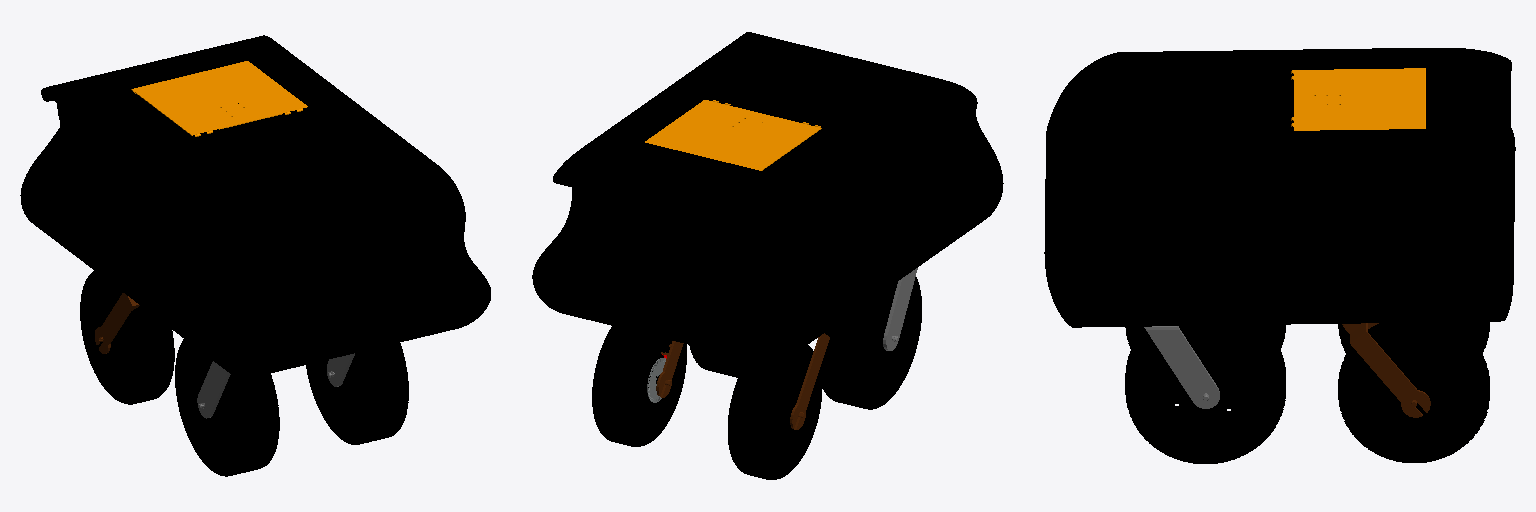
The robot description file, URDF, robot "Car assembly":
<?xml version="1.0" encoding="utf-8"?>
<!-- This URDF was automatically created by SolidWorks to URDF Exporter! Originally created by Stephen Brawner (brawner@gmail.com) 
     Commit Version: 1.6.0-4-g7f85cfe  Build Version: 1.6.7995.38578
     For more information, please see http://wiki.ros.org/sw_urdf_exporter -->
<robot
  name="Car assembly">
  <link
    name="base_link">
    <inertial>
      <origin
        xyz="0.00062631 0.31309 -0.25258"
        rpy="0 0 0" />
      <mass
        value="33.846" />
      <inertia
        ixx="0.27315"
        ixy="-0.0016883"
        ixz="-2.0306E-05"
        iyy="0.28226"
        iyz="-0.0046629"
        izz="0.41234" />
    </inertial>
    <visual>
      <origin
        xyz="0 0 0"
        rpy="0 0 0" />
      <geometry>
        <mesh
          filename="meshes/base_link.STL" />
      </geometry>
      <material
        name="">
        <color
          rgba="0 0 0 1" />
      </material>
    </visual>
    <collision>
      <origin
        xyz="0 0 0"
        rpy="0 0 0" />
      <geometry>
        <mesh
          filename="meshes/base_link.STL" />
      </geometry>
    </collision>
  </link>
  <link
    name="right_Knuckle">
    <inertial>
      <origin
        xyz="-0.11963 -6.1676E-05 0.14233"
        rpy="0 0 0" />
      <mass
        value="3.805" />
      <inertia
        ixx="0.038868"
        ixy="3.9127E-06"
        ixz="0.021219"
        iyy="0.04605"
        iyz="-5.3928E-06"
        izz="0.026557" />
    </inertial>
    <visual>
      <origin
        xyz="0 0 0"
        rpy="0 0 0" />
      <geometry>
        <mesh
          filename="meshes/right_Knuckle.STL" />
      </geometry>
      <material
        name="">
        <color
          rgba="0.36 0.18 0.05 1" />
      </material>
    </visual>
    <collision>
      <origin
        xyz="0 0 0"
        rpy="0 0 0" />
      <geometry>
        <mesh
          filename="meshes/right_Knuckle.STL" />
      </geometry>
    </collision>
  </link>
  <joint
    name="right_Knuckle_joint"
    type="continuous">
    <origin
      xyz="-0.199999999999968 0.471319481101379 -0.372577159553223"
      rpy="3.14159265358979 0 -1.5707963267949" />
    <parent
      link="base_link" />
    <child
      link="right_Knuckle" />
    <axis
      xyz="0 -1 0" />
  </joint>
  <link
    name="right_wheel">
    <inertial>
      <origin
        xyz="-2.9254E-08 -0.00065273 2.1302E-07"
        rpy="0 0 0" />
      <mass
        value="16.633" />
      <inertia
        ixx="0.082756"
        ixy="-1.7814E-08"
        ixz="8.7481E-09"
        iyy="0.148"
        iyz="1.7679E-07"
        izz="0.082756" />
    </inertial>
    <visual>
      <origin
        xyz="0 0 0"
        rpy="0 0 0" />
      <geometry>
        <mesh
          filename="meshes/right_wheel.STL" />
      </geometry>
      <material
        name="">
        <color
          rgba="0 0 0 1" />
      </material>
    </visual>
    <collision>
      <origin
        xyz="0 0 0"
        rpy="0 0 0" />
      <geometry>
        <mesh
          filename="meshes/right_wheel.STL" />
      </geometry>
    </collision>
  </link>
  <joint
    name="right_wheel_joint"
    type="continuous">
    <origin
      xyz="-0.234395683941828 0.00250018385050004 0.29337333442125"
      rpy="0 0 0" />
    <parent
      link="right_Knuckle" />
    <child
      link="right_wheel" />
    <axis
      xyz="0 1 0" />
  </joint>
  <link
    name="right_disk">
    <inertial>
      <origin
        xyz="4.4409E-16 3.7317E-14 -1.9984E-15"
        rpy="0 0 0" />
      <mass
        value="0.072665" />
      <inertia
        ixx="6.5244E-05"
        ixy="-5.1038E-21"
        ixz="-8.5943E-21"
        iyy="0.00013048"
        iyz="-3.0297E-20"
        izz="6.5244E-05" />
    </inertial>
    <visual>
      <origin
        xyz="0 0 0"
        rpy="0 0 0" />
      <geometry>
        <mesh
          filename="meshes/right_disk.STL" />
      </geometry>
      <material
        name="">
        <color
          rgba="0.52941 0.54902 0.54902 1" />
      </material>
    </visual>
    <collision>
      <origin
        xyz="0 0 0"
        rpy="0 0 0" />
      <geometry>
        <mesh
          filename="meshes/right_disk.STL" />
      </geometry>
    </collision>
  </link>
  <joint
    name="right_disk_joint"
    type="fixed">
    <origin
      xyz="0 -0.0581328274135423 0"
      rpy="0 0 0" />
    <parent
      link="right_wheel" />
    <child
      link="right_disk" />
    <axis
      xyz="0 0 0" />
  </joint>
  <link
    name="right_encoder">
    <inertial>
      <origin
        xyz="0.0033456 -0.007696 0.00505"
        rpy="0 0 0" />
      <mass
        value="0.0018182" />
      <inertia
        ixx="1.6328E-07"
        ixy="-1.3711E-08"
        ixz="1.5168E-15"
        iyy="1.0427E-07"
        iyz="2.0502E-15"
        izz="1.2878E-07" />
    </inertial>
    <visual>
      <origin
        xyz="0 0 0"
        rpy="0 0 0" />
      <geometry>
        <mesh
          filename="meshes/right_encoder.STL" />
      </geometry>
      <material
        name="">
        <color
          rgba="1 0 0 1" />
      </material>
    </visual>
    <collision>
      <origin
        xyz="0 0 0"
        rpy="0 0 0" />
      <geometry>
        <mesh
          filename="meshes/right_encoder.STL" />
      </geometry>
    </collision>
  </link>
  <joint
    name="right_encoder"
    type="fixed">
    <origin
      xyz="-0.207097260733896 -0.0607650000000001 0.243793104335452"
      rpy="1.5707963267949 1.5707963267949 0" />
    <parent
      link="right_Knuckle" />
    <child
      link="right_encoder" />
    <axis
      xyz="0 0 0" />
  </joint>
  <link
    name="right_low_suspension">
    <inertial>
      <origin
        xyz="0.00033582 9.4025E-08 -0.021194"
        rpy="0 0 0" />
      <mass
        value="0.16486" />
      <inertia
        ixx="0.00010548"
        ixy="3.5543E-12"
        ixz="1.4135E-06"
        iyy="0.00010569"
        iyz="-2.6801E-10"
        izz="1.6291E-05" />
    </inertial>
    <visual>
      <origin
        xyz="0 0 0"
        rpy="0 0 0" />
      <geometry>
        <mesh
          filename="meshes/right_low_suspension.STL" />
      </geometry>
      <material
        name="">
        <color
          rgba="0.77647 0.75686 0.73725 1" />
      </material>
    </visual>
    <collision>
      <origin
        xyz="0 0 0"
        rpy="0 0 0" />
      <geometry>
        <mesh
          filename="meshes/right_low_suspension.STL" />
      </geometry>
    </collision>
  </link>
  <joint
    name="right_low_suspension_joint"
    type="continuous">
    <origin
      xyz="-0.128131802251497 0 0.0805394382397928"
      rpy="0 0 0" />
    <parent
      link="right_Knuckle" />
    <child
      link="right_low_suspension" />
    <axis
      xyz="0 -1 0" />
  </joint>
  <link
    name="left_knuckle">
    <inertial>
      <origin
        xyz="-0.11963 6.1684E-05 0.14233"
        rpy="0 0 0" />
      <mass
        value="3.805" />
      <inertia
        ixx="0.038868"
        ixy="-4.0185E-06"
        ixz="0.021219"
        iyy="0.04605"
        iyz="5.3105E-06"
        izz="0.026557" />
    </inertial>
    <visual>
      <origin
        xyz="0 0 0"
        rpy="0 0 0" />
      <geometry>
        <mesh
          filename="meshes/left_knuckle.STL" />
      </geometry>
      <material
        name="">
        <color
          rgba="0.36 0.18 0.05 1" />
      </material>
    </visual>
    <collision>
      <origin
        xyz="0 0 0"
        rpy="0 0 0" />
      <geometry>
        <mesh
          filename="meshes/left_knuckle.STL" />
      </geometry>
    </collision>
  </link>
  <joint
    name="left_knuckle_joint"
    type="continuous">
    <origin
      xyz="0.200000000000031 0.471319481101379 -0.372577159553224"
      rpy="3.14159265358979 0 -1.5707963267949" />
    <parent
      link="base_link" />
    <child
      link="left_knuckle" />
    <axis
      xyz="0 -1 0" />
  </joint>
  <link
    name="left_wheel">
    <inertial>
      <origin
        xyz="-4.015E-08 0.00065274 2.4461E-07"
        rpy="0 0 0" />
      <mass
        value="16.633" />
      <inertia
        ixx="0.082756"
        ixy="3.5814E-08"
        ixz="1.719E-08"
        iyy="0.148"
        iyz="-2.0763E-07"
        izz="0.082756" />
    </inertial>
    <visual>
      <origin
        xyz="0 0 0"
        rpy="0 0 0" />
      <geometry>
        <mesh
          filename="meshes/left_wheel.STL" />
      </geometry>
      <material
        name="">
        <color
          rgba="0 0 0 1" />
      </material>
    </visual>
    <collision>
      <origin
        xyz="0 0 0"
        rpy="0 0 0" />
      <geometry>
        <mesh
          filename="meshes/left_wheel.STL" />
      </geometry>
    </collision>
  </link>
  <joint
    name="left_wheel_joint"
    type="continuous">
    <origin
      xyz="-0.234395683930872 -0.00250018383990397 0.293373334432206"
      rpy="0 0 0" />
    <parent
      link="left_knuckle" />
    <child
      link="left_wheel" />
    <axis
      xyz="0 1 0" />
  </joint>
  <link
    name="left_disk">
    <inertial>
      <origin
        xyz="-6.2172E-15 4.1855E-14 -3.5527E-15"
        rpy="0 0 0" />
      <mass
        value="0.072665" />
      <inertia
        ixx="6.5244E-05"
        ixy="-5.2904E-21"
        ixz="-3.5574E-20"
        iyy="0.00013048"
        iyz="1.9946E-19"
        izz="6.5244E-05" />
    </inertial>
    <visual>
      <origin
        xyz="0 0 0"
        rpy="0 0 0" />
      <geometry>
        <mesh
          filename="meshes/left_disk.STL" />
      </geometry>
      <material
        name="">
        <color
          rgba="0.52941 0.54902 0.54902 1" />
      </material>
    </visual>
    <collision>
      <origin
        xyz="0 0 0"
        rpy="0 0 0" />
      <geometry>
        <mesh
          filename="meshes/left_disk.STL" />
      </geometry>
    </collision>
  </link>
  <joint
    name="left_disk_joint"
    type="fixed">
    <origin
      xyz="0 0.0581328274029457 0"
      rpy="0 0 0" />
    <parent
      link="left_wheel" />
    <child
      link="left_disk" />
    <axis
      xyz="0 0 0" />
  </joint>
  <link
    name="left_encoder">
    <inertial>
      <origin
        xyz="0.0082686 0.0014323 0.00505"
        rpy="0 0 0" />
      <mass
        value="0.0018182" />
      <inertia
        ixx="1.1386E-07"
        ixy="2.5729E-08"
        ixz="-1.8683E-15"
        iyy="1.5369E-07"
        iyz="1.9843E-15"
        izz="1.2878E-07" />
    </inertial>
    <visual>
      <origin
        xyz="0 0 0"
        rpy="0 0 0" />
      <geometry>
        <mesh
          filename="meshes/left_encoder.STL" />
      </geometry>
      <material
        name="">
        <color
          rgba="1 0 0 1" />
      </material>
    </visual>
    <collision>
      <origin
        xyz="0 0 0"
        rpy="0 0 0" />
      <geometry>
        <mesh
          filename="meshes/left_encoder.STL" />
      </geometry>
    </collision>
  </link>
  <joint
    name="left_encoder_joint"
    type="fixed">
    <origin
      xyz="-0.192670048049405 0.0607649999999989 0.255132329800909"
      rpy="1.5707963267949 1.5707963267949 0" />
    <parent
      link="left_knuckle" />
    <child
      link="left_encoder" />
    <axis
      xyz="0 0 0" />
  </joint>
  <link
    name="left_low_suspension">
    <inertial>
      <origin
        xyz="0.00033582 9.4025E-08 -0.021194"
        rpy="0 0 0" />
      <mass
        value="0.16486" />
      <inertia
        ixx="0.00010548"
        ixy="3.5543E-12"
        ixz="1.4135E-06"
        iyy="0.00010569"
        iyz="-2.6801E-10"
        izz="1.6291E-05" />
    </inertial>
    <visual>
      <origin
        xyz="0 0 0"
        rpy="0 0 0" />
      <geometry>
        <mesh
          filename="meshes/left_low_suspension.STL" />
      </geometry>
      <material
        name="">
        <color
          rgba="0.77647 0.75686 0.73725 1" />
      </material>
    </visual>
    <collision>
      <origin
        xyz="0 0 0"
        rpy="0 0 0" />
      <geometry>
        <mesh
          filename="meshes/left_low_suspension.STL" />
      </geometry>
    </collision>
  </link>
  <joint
    name="left_low_suspension_joint"
    type="continuous">
    <origin
      xyz="-0.128131802251497 0 0.0805394382397931"
      rpy="0 0 0" />
    <parent
      link="left_knuckle" />
    <child
      link="left_low_suspension" />
    <axis
      xyz="0 -1 0" />
  </joint>
  <link
    name="right_high_suspension">
    <inertial>
      <origin
        xyz="-0.00067655 7.1805E-05 0.046412"
        rpy="0 0 0" />
      <mass
        value="0.5159" />
      <inertia
        ixx="0.00030587"
        ixy="1.8263E-07"
        ixz="-1.1466E-07"
        iyy="0.00030586"
        iyz="2.9465E-06"
        izz="9.6782E-05" />
    </inertial>
    <visual>
      <origin
        xyz="0 0 0"
        rpy="0 0 0" />
      <geometry>
        <mesh
          filename="meshes/right_high_suspension.STL" />
      </geometry>
      <material
        name="">
        <color
          rgba="0.77647 0.75686 0.73725 1" />
      </material>
    </visual>
    <collision>
      <origin
        xyz="0 0 0"
        rpy="0 0 0" />
      <geometry>
        <mesh
          filename="meshes/right_high_suspension.STL" />
      </geometry>
    </collision>
  </link>
  <joint
    name="right_high_suspension_joint"
    type="continuous">
    <origin
      xyz="-0.199999999999969 0.597470947158883 -0.328132285703223"
      rpy="3.14159265358979 0 -1.5707963267949" />
    <parent
      link="base_link" />
    <child
      link="right_high_suspension" />
    <axis
      xyz="0 -1 0" />
  </joint>
  <link
    name="left_high_suspension">
    <inertial>
      <origin
        xyz="-0.00067655 7.1805E-05 0.046412"
        rpy="0 0 0" />
      <mass
        value="0.5159" />
      <inertia
        ixx="0.00030587"
        ixy="1.8263E-07"
        ixz="-1.1466E-07"
        iyy="0.00030586"
        iyz="2.9465E-06"
        izz="9.6782E-05" />
    </inertial>
    <visual>
      <origin
        xyz="0 0 0"
        rpy="0 0 0" />
      <geometry>
        <mesh
          filename="meshes/left_high_suspension.STL" />
      </geometry>
      <material
        name="">
        <color
          rgba="0.77647 0.75686 0.73725 1" />
      </material>
    </visual>
    <collision>
      <origin
        xyz="0 0 0"
        rpy="0 0 0" />
      <geometry>
        <mesh
          filename="meshes/left_high_suspension.STL" />
      </geometry>
    </collision>
  </link>
  <joint
    name="left_high_suspension_joint"
    type="continuous">
    <origin
      xyz="0.20000000000003 0.597470947158883 -0.328132285703224"
      rpy="3.14159265358979 0 -1.5707963267949" />
    <parent
      link="base_link" />
    <child
      link="left_high_suspension" />
    <axis
      xyz="0 -1 0" />
  </joint>
  <link
    name="right_caster">
    <inertial>
      <origin
        xyz="4.5439E-07 -0.062682 -0.030057"
        rpy="0 0 0" />
      <mass
        value="6.0737" />
      <inertia
        ixx="0.050416"
        ixy="-4.132E-08"
        ixz="-2.9361E-08"
        iyy="0.028183"
        iyz="-0.018711"
        izz="0.050879" />
    </inertial>
    <visual>
      <origin
        xyz="0 0 0"
        rpy="0 0 0" />
      <geometry>
        <mesh
          filename="meshes/right_caster.STL" />
      </geometry>
      <material
        name="">
        <color
          rgba="0.5 0.5 0.5 1" />
      </material>
    </visual>
    <collision>
      <origin
        xyz="0 0 0"
        rpy="0 0 0" />
      <geometry>
        <mesh
          filename="meshes/right_caster.STL" />
      </geometry>
    </collision>
  </link>
  <joint
    name="right_caster_joint"
    type="continuous">
    <origin
      xyz="-0.193999999999983 0.0787262973425801 -0.432906688526437"
      rpy="1.5866453347782 0 0" />
    <parent
      link="base_link" />
    <child
      link="right_caster" />
    <axis
      xyz="0 1 0" />
  </joint>
  <link
    name="right_caster_wheel">
    <inertial>
      <origin
        xyz="-1.9429E-15 1.0922E-05 -9.1593E-16"
        rpy="0 0 0" />
      <mass
        value="17.571" />
      <inertia
        ixx="0.11153"
        ixy="6.7233E-17"
        ixz="1.1926E-17"
        iyy="0.21554"
        iyz="3.2052E-16"
        izz="0.11153" />
    </inertial>
    <visual>
      <origin
        xyz="0 0 0"
        rpy="0 0 0" />
      <geometry>
        <mesh
          filename="meshes/right_caster_wheel.STL" />
      </geometry>
      <material
        name="">
        <color
          rgba="0 0 0 1" />
      </material>
    </visual>
    <collision>
      <origin
        xyz="0 0 0"
        rpy="0 0 0" />
      <geometry>
        <mesh
          filename="meshes/right_caster_wheel.STL" />
      </geometry>
    </collision>
  </link>
  <joint
    name="right_caster_wheel_joint"
    type="continuous">
    <origin
      xyz="0 -0.224100000000001 -0.118501282216464"
      rpy="0 -1.55494731881158 1.57079632679494" />
    <parent
      link="right_caster" />
    <child
      link="right_caster_wheel" />
    <axis
      xyz="0 -1 0" />
  </joint>
  <link
    name="left_caster">
    <inertial>
      <origin
        xyz="4.7087E-07 -0.062683 -0.030057"
        rpy="0 0 0" />
      <mass
        value="6.0737" />
      <inertia
        ixx="0.050416"
        ixy="-4.1304E-08"
        ixz="-2.9361E-08"
        iyy="0.028183"
        iyz="-0.018711"
        izz="0.050879" />
    </inertial>
    <visual>
      <origin
        xyz="0 0 0"
        rpy="0 0 0" />
      <geometry>
        <mesh
          filename="meshes/left_caster.STL" />
      </geometry>
      <material
        name="">
        <color
          rgba="0.5 0.5 0.5 1" />
      </material>
    </visual>
    <collision>
      <origin
        xyz="0 0 0"
        rpy="0 0 0" />
      <geometry>
        <mesh
          filename="meshes/left_caster.STL" />
      </geometry>
    </collision>
  </link>
  <joint
    name="left_caster_joint"
    type="continuous">
    <origin
      xyz="0.194000000000024 0.0787262973425764 -0.432906688526438"
      rpy="1.5866453347782 0 0" />
    <parent
      link="base_link" />
    <child
      link="left_caster" />
    <axis
      xyz="0 1 0" />
  </joint>
  <link
    name="left_caster_wheel">
    <inertial>
      <origin
        xyz="-6.5503E-15 1.0922E-05 3.6082E-15"
        rpy="0 0 0" />
      <mass
        value="17.571" />
      <inertia
        ixx="0.11153"
        ixy="9.8903E-17"
        ixz="-5.3819E-18"
        iyy="0.21554"
        iyz="3.5392E-17"
        izz="0.11153" />
    </inertial>
    <visual>
      <origin
        xyz="0 0 0"
        rpy="0 0 0" />
      <geometry>
        <mesh
          filename="meshes/left_caster_wheel.STL" />
      </geometry>
      <material
        name="">
        <color
          rgba="0 0 0 1" />
      </material>
    </visual>
    <collision>
      <origin
        xyz="0 0 0"
        rpy="0 0 0" />
      <geometry>
        <mesh
          filename="meshes/left_caster_wheel.STL" />
      </geometry>
    </collision>
  </link>
  <joint
    name="left_caster_wheel_joint"
    type="continuous">
    <origin
      xyz="0 -0.224099999999996 -0.118501282216458"
      rpy="0 -1.55494731881158 1.57079632679494" />
    <parent
      link="left_caster" />
    <child
      link="left_caster_wheel" />
    <axis
      xyz="0 -1 0" />
  </joint>
  <link
    name="bag">
    <inertial>
      <origin
        xyz="-0.15515 -0.12633 -0.0015414"
        rpy="0 0 0" />
      <mass
        value="0.32197" />
      <inertia
        ixx="0.0029346"
        ixy="-9.6493E-07"
        ixz="-1.2181E-05"
        iyy="0.0027009"
        iyz="9.899E-08"
        izz="0.0056301" />
    </inertial>
    <visual>
      <origin
        xyz="0 0 0"
        rpy="0 0 0" />
      <geometry>
        <mesh
          filename="meshes/bag.STL" />
      </geometry>
      <material
        name="">
        <color
          rgba="1 0.61961 0 1" />
      </material>
    </visual>
    <collision>
      <origin
        xyz="0 0 0"
        rpy="0 0 0" />
      <geometry>
        <mesh
          filename="meshes/bag.STL" />
      </geometry>
    </collision>
  </link>
  <joint
    name="bag_joint"
    type="continuous">
    <origin
      xyz="-0.12675 0.41098 0.010715"
      rpy="3.1416 0 -1.5708" />
    <parent
      link="base_link" />
    <child
      link="bag" />
    <axis
      xyz="0 -1 0" />
  </joint>
</robot>

--- Render facts (derived) ---
Views: 3 orthographic renders of the robot side by side, from view 1: azimuth 30°, elevation 25°; view 2: azimuth 150°, elevation 25°; view 3: azimuth 270°, elevation 25°.
Robot: Car assembly — 18 links, 17 joints (13 continuous, 4 fixed); root link base_link; default pose: all joints at 0.
Links seen in each view (by area): view 1: base_link, right_caster_wheel, right_wheel, bag, left_caster_wheel, right_Knuckle, right_caster, left_caster; view 2: base_link, right_wheel, right_caster_wheel, left_wheel, bag, right_caster, right_Knuckle, left_caster_wheel, left_knuckle; view 3: base_link, left_caster_wheel, left_wheel, bag, left_caster, left_knuckle, right_wheel.
Link boxes in pixels (x1,y1,x2,y2): base_link: [20, 35, 490, 379]; right_caster_wheel: [175, 339, 279, 476]; right_wheel: [80, 271, 174, 404]; bag: [131, 61, 307, 136]; left_caster_wheel: [306, 343, 408, 444]; right_Knuckle: [95, 293, 139, 353]; right_caster: [197, 361, 230, 418]; left_caster: [327, 353, 354, 386]; base_link: [532, 32, 1003, 364]; right_wheel: [728, 345, 822, 479]; right_caster_wheel: [821, 277, 921, 409]; left_wheel: [592, 326, 686, 446]; bag: [645, 100, 821, 170]; right_caster: [883, 268, 917, 350]; right_Knuckle: [790, 333, 829, 429]; left_caster_wheel: [689, 345, 746, 377]; left_knuckle: [656, 341, 683, 397]; base_link: [1044, 48, 1515, 327]; left_caster_wheel: [1125, 325, 1285, 463]; left_wheel: [1338, 322, 1489, 462]; bag: [1291, 68, 1425, 130]; left_caster: [1144, 326, 1219, 408]; left_knuckle: [1342, 323, 1430, 417]; right_wheel: [1338, 322, 1489, 353].
Bounding box of the posed robot: 0.7698 × 1.14 × 0.8729 m (x, y, z).
18 mesh visuals loaded from 18 distinct referenced files (18 binary STL).
